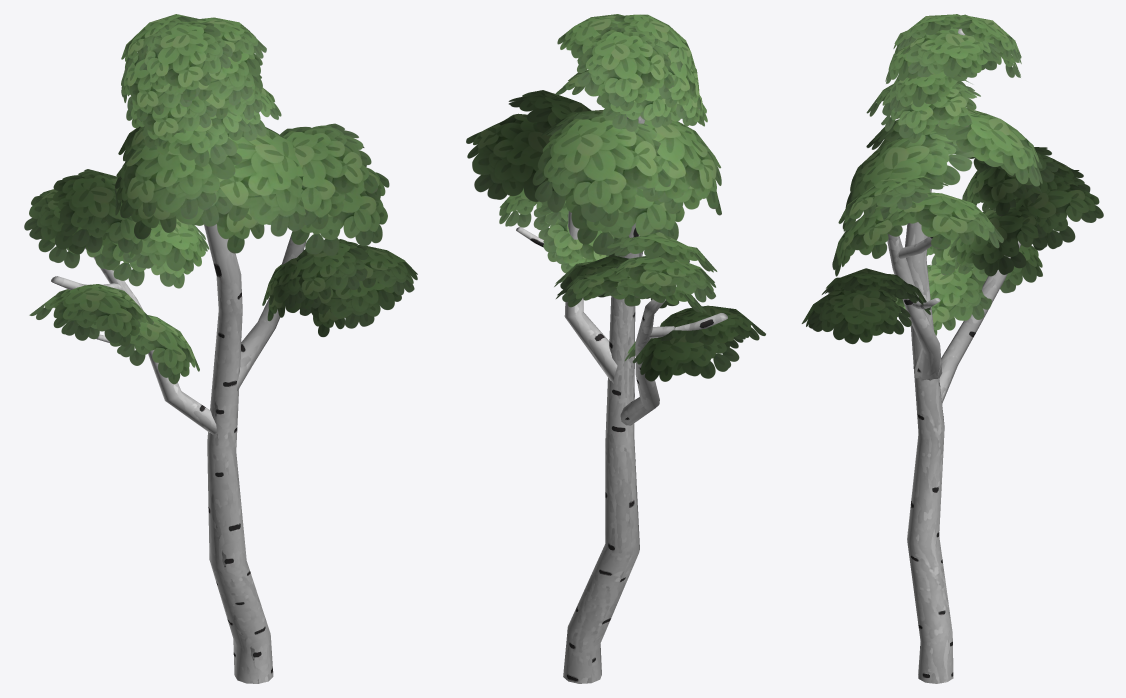
The model's file is street-tree-7.glb.
3 views of the same model, side by side, from view 1: azimuth 30°, elevation 25°; view 2: azimuth 150°, elevation 25°; view 3: azimuth 270°, elevation 25° (orthographic). The views are drawn at different scales.
Parts seen in each view (by area): view 1: Birch_7; view 2: Birch_7; view 3: Birch_7.
Boxes of the visible parts, bbox=[...] form: Birch_7: bbox=[24, 14, 417, 683]; Birch_7: bbox=[466, 14, 765, 683]; Birch_7: bbox=[801, 14, 1103, 683].
Bounding box in the file's own units: 4.87 × 9.92 × 4.46.
Materials: 2 (2 with a texture image).
